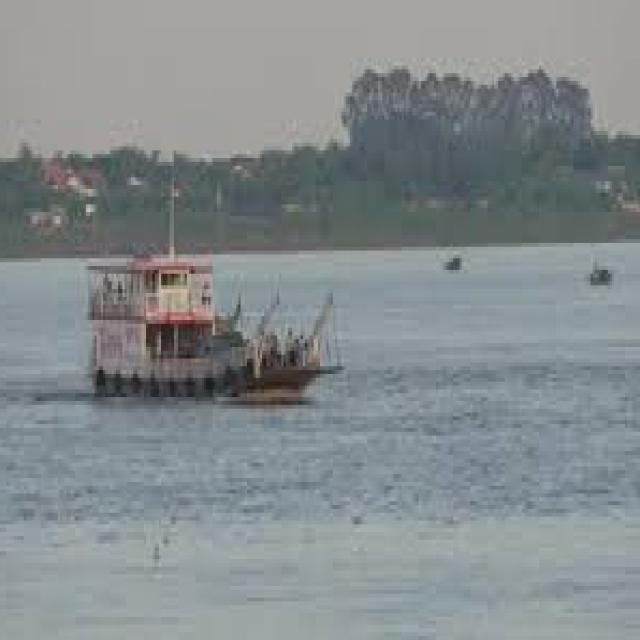fishing boat: (96, 236, 356, 404)
